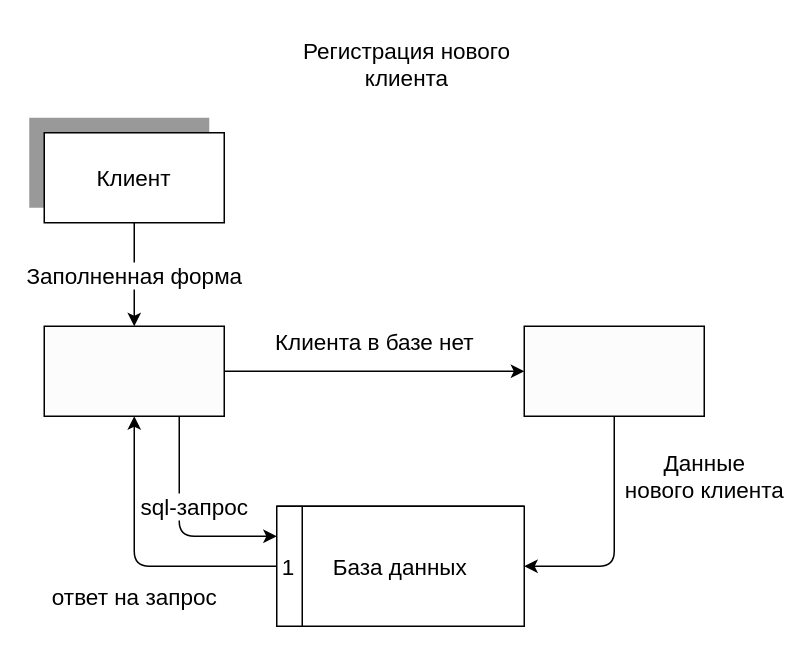
Some shapes in this 809 by 653 pixel diagram are drawn without their labels. The centre of each missing label's shape, as x and y in pixels:
Запись нового клиента: the point at 613,370
Проверка клиента в базе данных: the point at 133,370
